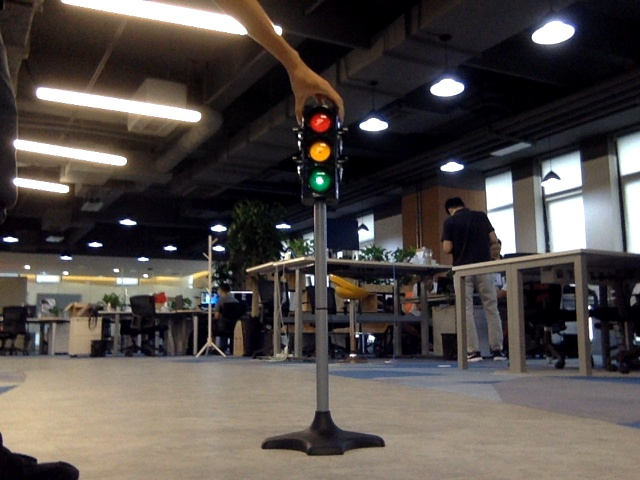green: (305, 111, 334, 196)
